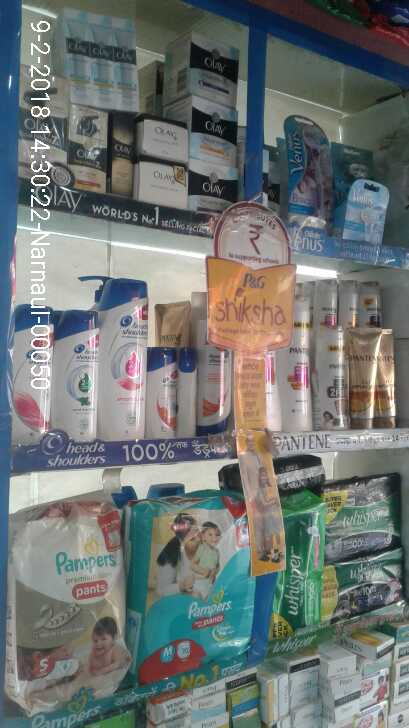venus: (286, 114, 332, 232), (344, 178, 387, 239)
